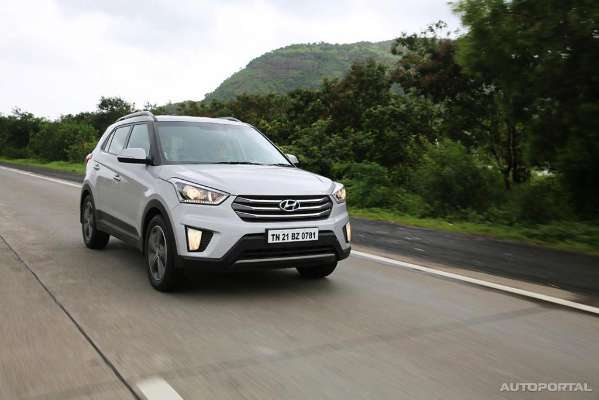number_plate: (263, 223, 326, 248)
